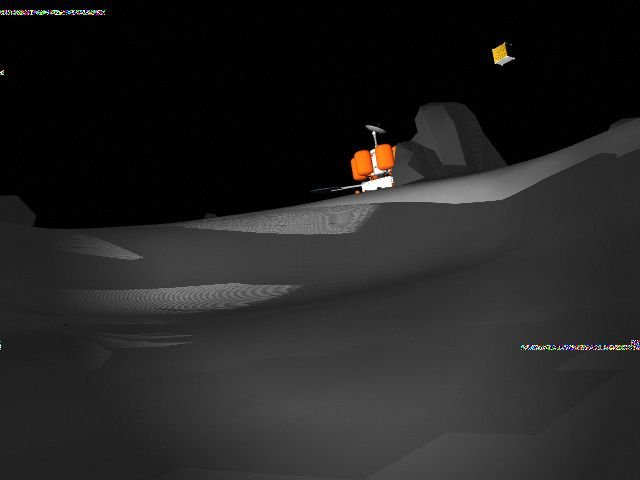cubesat: (485, 37, 523, 70)
